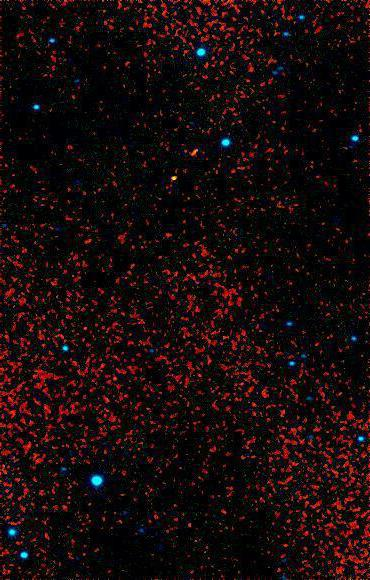star: (160, 162, 190, 192)
